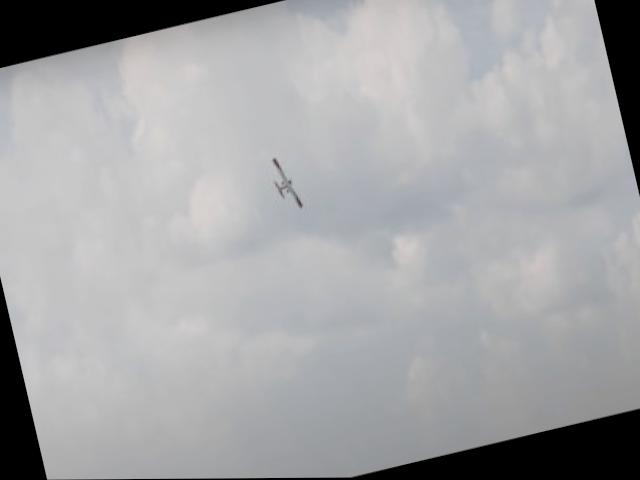uav: (265, 142, 306, 216)
